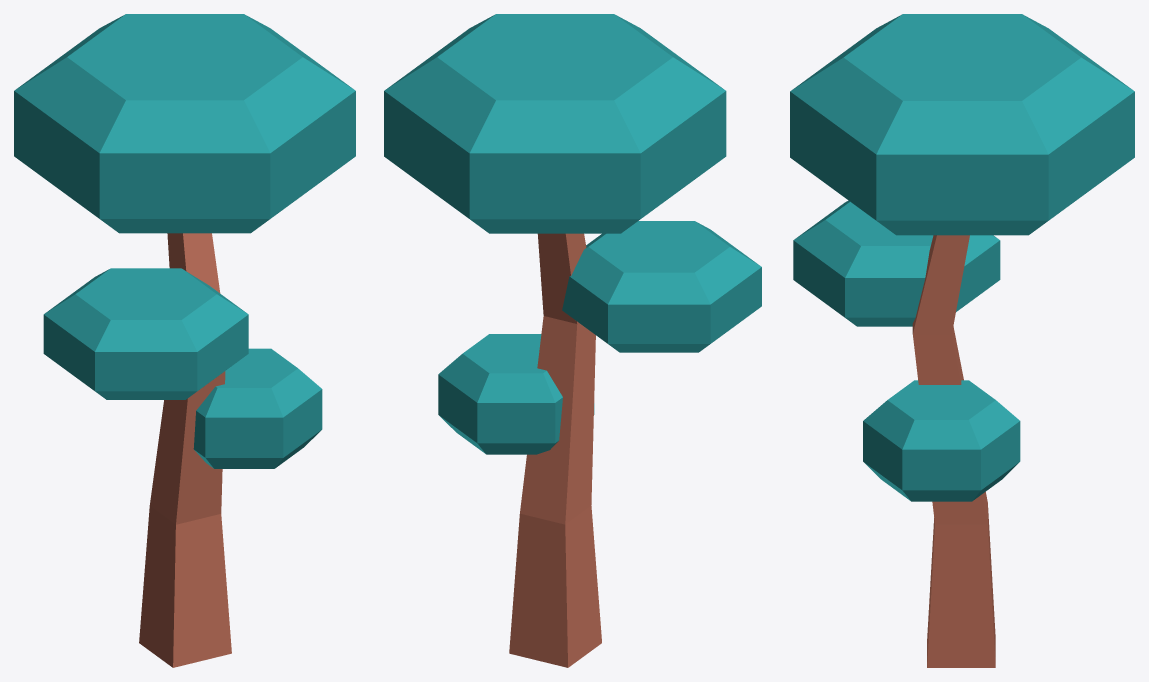
Rendered from tree_plateau_dark.dae.
3 views of the same model, side by side, from view 1: azimuth 30°, elevation 25°; view 2: azimuth 150°, elevation 25°; view 3: azimuth 270°, elevation 25° (orthographic).
Visible parts, largest first — view 1: tree_plateau_dark; view 2: tree_plateau_dark; view 3: tree_plateau_dark.
Part boxes in pixels (box(x1,y1,x2,y2)): tree_plateau_dark: box(14, 14, 355, 667); tree_plateau_dark: box(384, 14, 761, 667); tree_plateau_dark: box(790, 14, 1134, 667).
Bounding box in the file's own units: 0.6117 × 1.25 × 0.6549.
